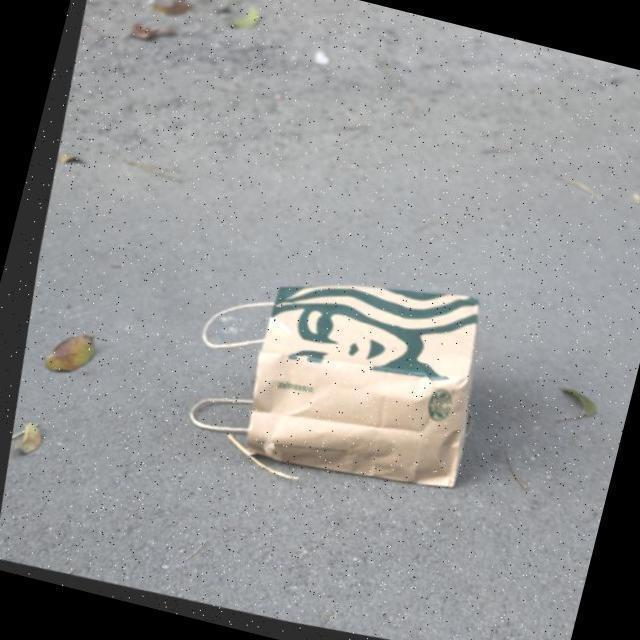Paper_Bag: (158, 226, 500, 512)
